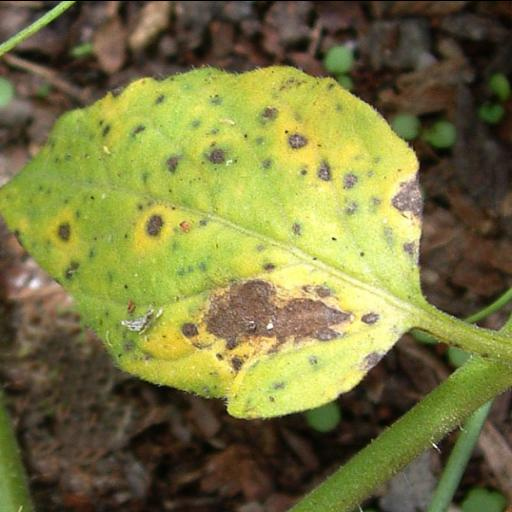Early Blight: (0, 65, 427, 417)
